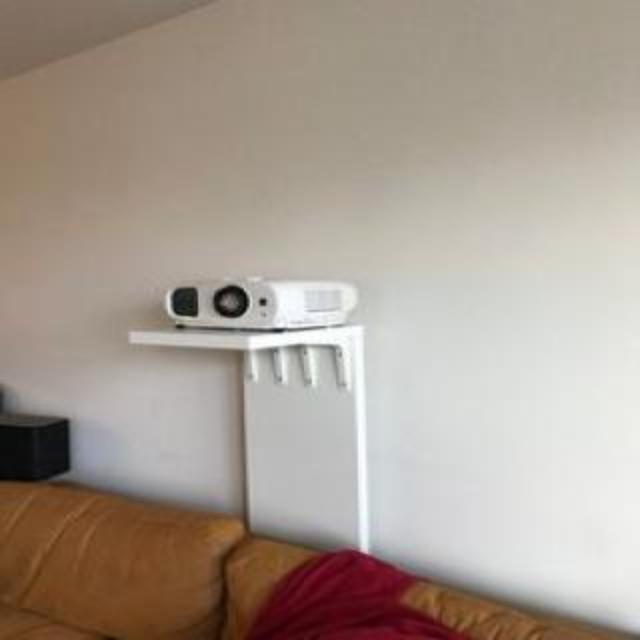Projector: (166, 274, 358, 332)
